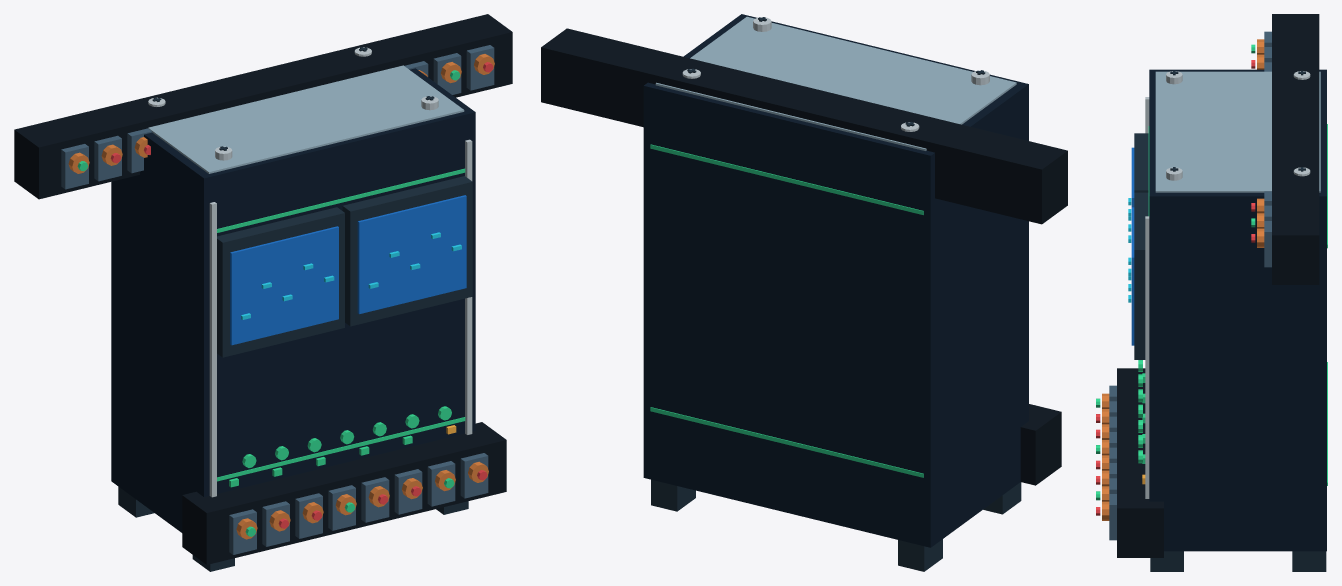
The model's file is 63_L78_Regulated5VControlSupply.fbx.
3 views of the same model, side by side, from view 1: azimuth 30°, elevation 25°; view 2: azimuth 150°, elevation 25°; view 3: azimuth 270°, elevation 25° (orthographic). The views are drawn at different scales.
Parts seen in each view (by area): view 1: Regulated5VControlSupply; view 2: Regulated5VControlSupply; view 3: Regulated5VControlSupply.
Boxes of the visible parts, x1,y1,x2,y2 form: Regulated5VControlSupply: [14, 14, 512, 571]; Regulated5VControlSupply: [541, 14, 1067, 571]; Regulated5VControlSupply: [1096, 14, 1327, 571].
Bounding box in the file's own units: 201 × 165 × 88.72.
